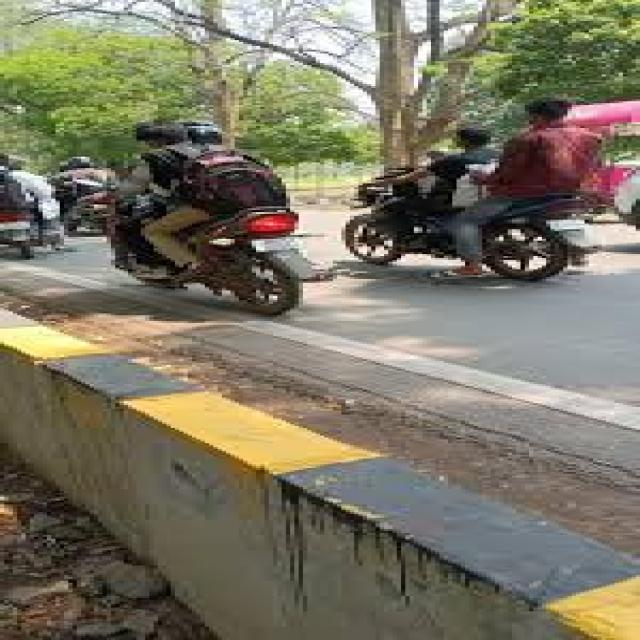Triple_riding: (94, 122, 306, 282)
